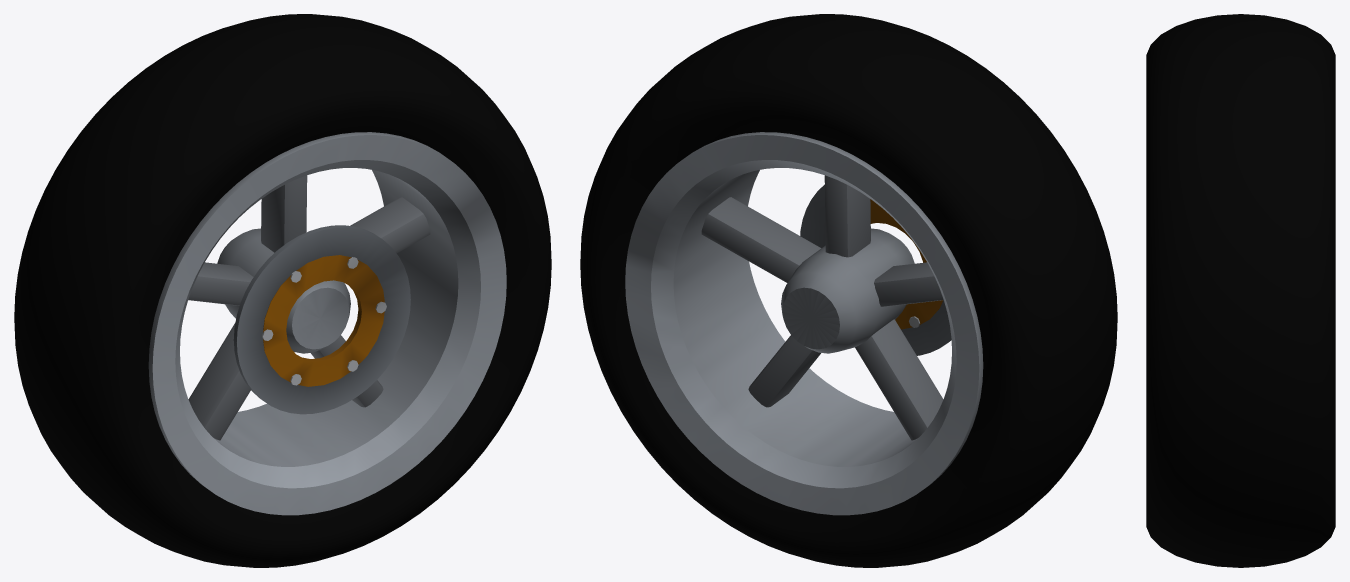
File: bike_strada_wheelR.glb
The picture shows the model from 3 angles, left to right: view 1: azimuth 30°, elevation 25°; view 2: azimuth 150°, elevation 25°; view 3: azimuth 270°, elevation 25°; orthographic projection. The views are drawn at different scales.
Visible parts, largest first — view 1: bk_wheelR_tyre, bk_wheelR_rim, bk_wheelR_disc0.09, bk_wheelR_carrier0.09, bk_wheelR_hub, bk_wheelR_sp3, bk_wheelR_sp1, bk_wheelR_sp0, bk_wheelR_sp2, bk_wheelR_sp4; view 2: bk_wheelR_tyre, bk_wheelR_rim, bk_wheelR_hub, bk_wheelR_sp3, bk_wheelR_sp0, bk_wheelR_sp1, bk_wheelR_disc0.09, bk_wheelR_sp4, bk_wheelR_sp2, bk_wheelR_carrier0.09; view 3: bk_wheelR_tyre.
Boxes of the visible parts, <box> form: bk_wheelR_tyre: <box>14,14,551,567</box>; bk_wheelR_rim: <box>148,132,506,515</box>; bk_wheelR_disc0.09: <box>233,225,410,414</box>; bk_wheelR_carrier0.09: <box>263,255,384,386</box>; bk_wheelR_hub: <box>217,228,350,353</box>; bk_wheelR_sp3: <box>188,323,250,440</box>; bk_wheelR_sp1: <box>261,175,307,252</box>; bk_wheelR_sp0: <box>350,197,430,253</box>; bk_wheelR_sp2: <box>188,262,253,305</box>; bk_wheelR_sp4: <box>311,335,383,407</box>; bk_wheelR_tyre: <box>580,14,1117,567</box>; bk_wheelR_rim: <box>625,132,983,515</box>; bk_wheelR_hub: <box>781,228,914,353</box>; bk_wheelR_sp3: <box>855,319,943,440</box>; bk_wheelR_sp0: <box>701,197,821,282</box>; bk_wheelR_sp1: <box>824,175,870,257</box>; bk_wheelR_disc0.09: <box>800,184,951,355</box>; bk_wheelR_sp4: <box>748,335,820,407</box>; bk_wheelR_sp2: <box>874,262,943,306</box>; bk_wheelR_carrier0.09: <box>870,199,943,329</box>; bk_wheelR_tyre: <box>1146,14,1335,567</box>.
Size of the model in its own units: 0.65 by 0.65 by 0.2225.
